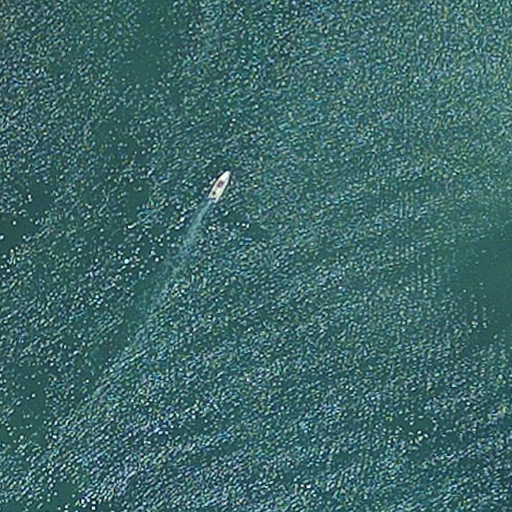ship: (206, 168, 235, 204)
